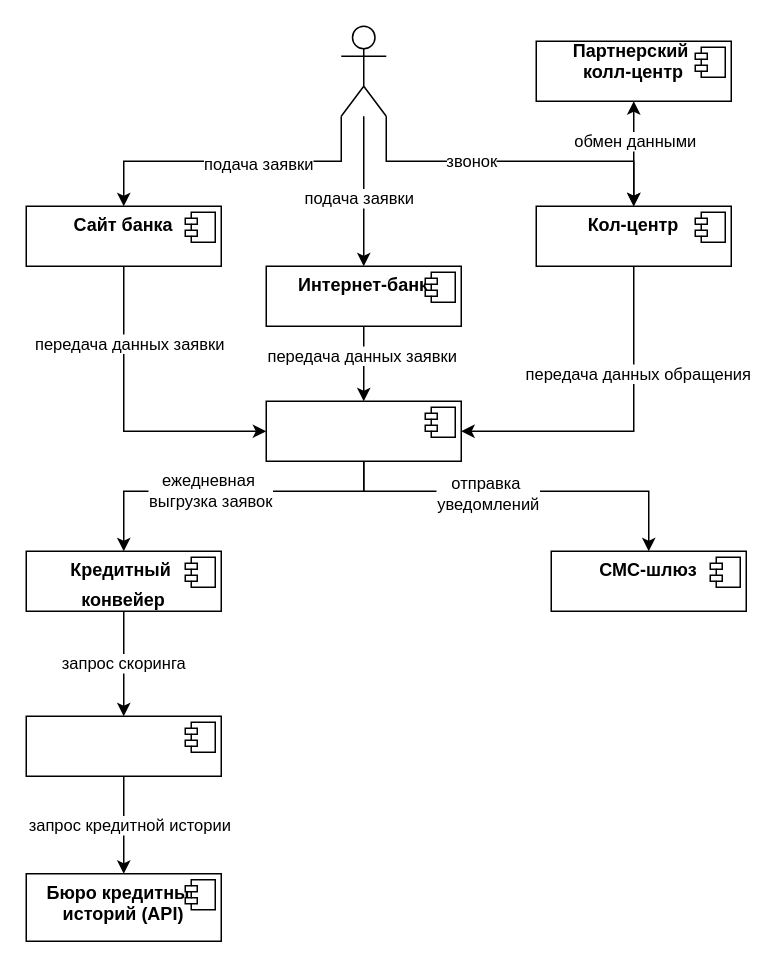
The diagram is 776 pixels wide and 968 high, and some of its shapes have lost their labels. Each missing label, with the box of its shape:
АБС: (265, 400, 461, 461)
Клиент: (340, 25, 386, 116)
Система скоринга: (25, 715, 221, 776)
